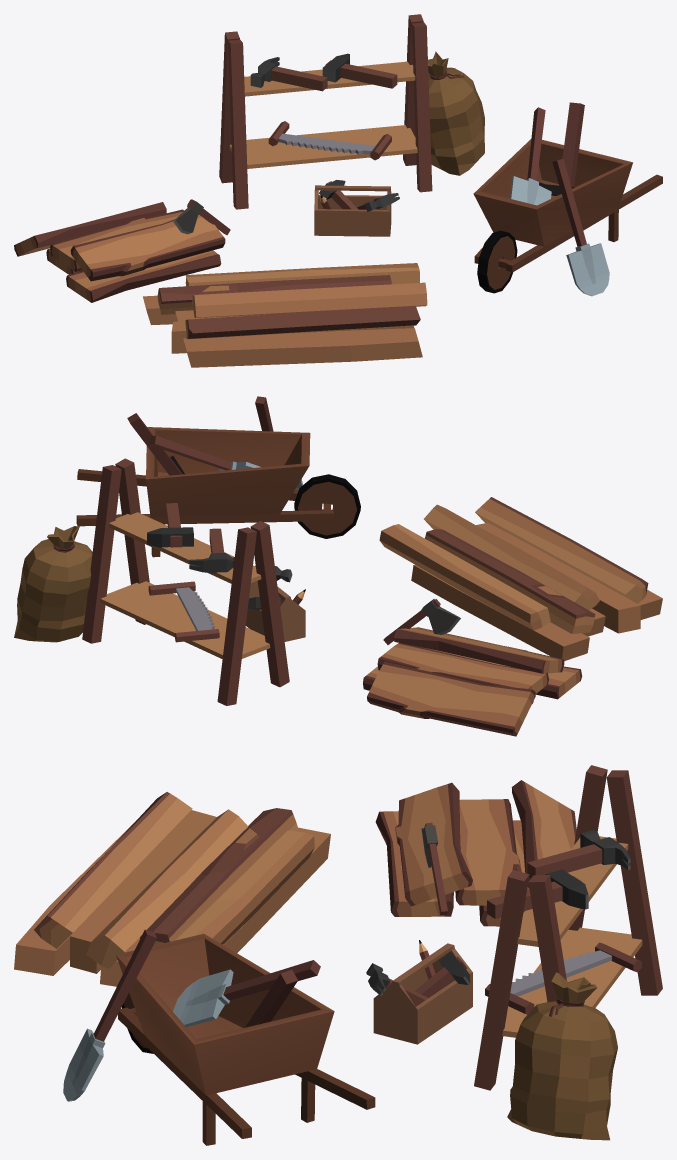
Rendered from construction_field.fbx.
3 renders of one model, top to bottom at view 1: azimuth 30°, elevation 25°; view 2: azimuth 150°, elevation 25°; view 3: azimuth 270°, elevation 25°, orthographic. The views are drawn at different scales.
Parts seen in each view (by area): view 1: tool_box_full.002, wood; view 2: tool_box_full.002, wood; view 3: tool_box_full.002, wood.
Part boxes in pixels (x1,y1,x2,y2): tool_box_full.002: (14,14,662,302); wood: (143,263,427,367); tool_box_full.002: (14,396,582,736); wood: (379,497,662,660); tool_box_full.002: (63,765,662,1145); wood: (14,792,330,986).
Size of the model in its own units: 322 by 94.18 by 248.
